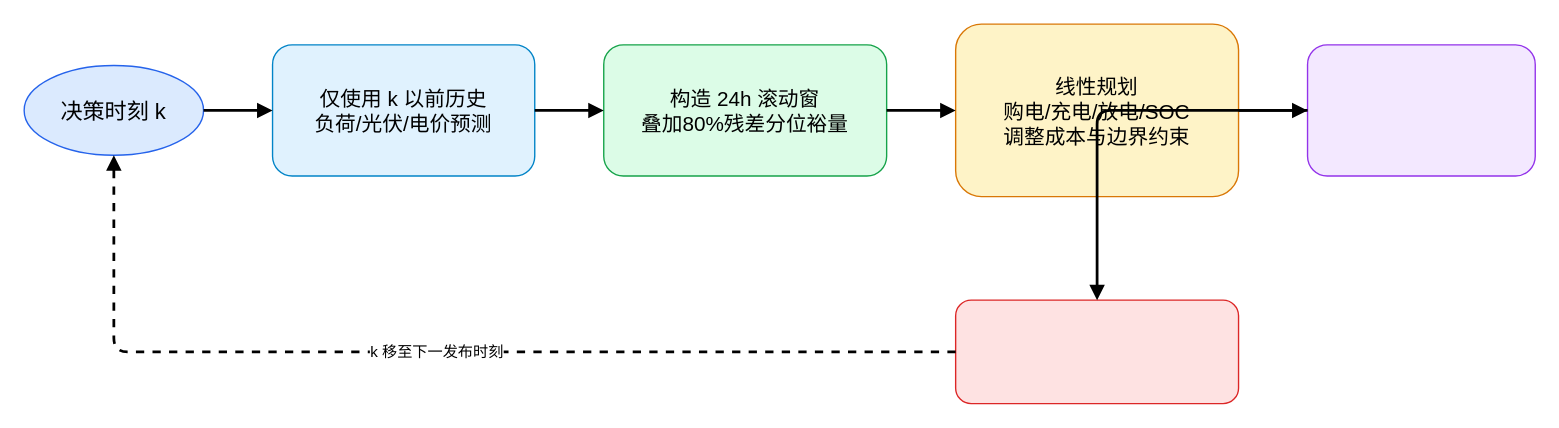
Some shapes in this 1559 by 428 pixel diagram are drawn without their labels. Each missing label, with the centre of its shape:
"冻结已执行区间 执行下一段决策" goes at [1420,109].
"实际结算与SOC更新" goes at [1096,351].
